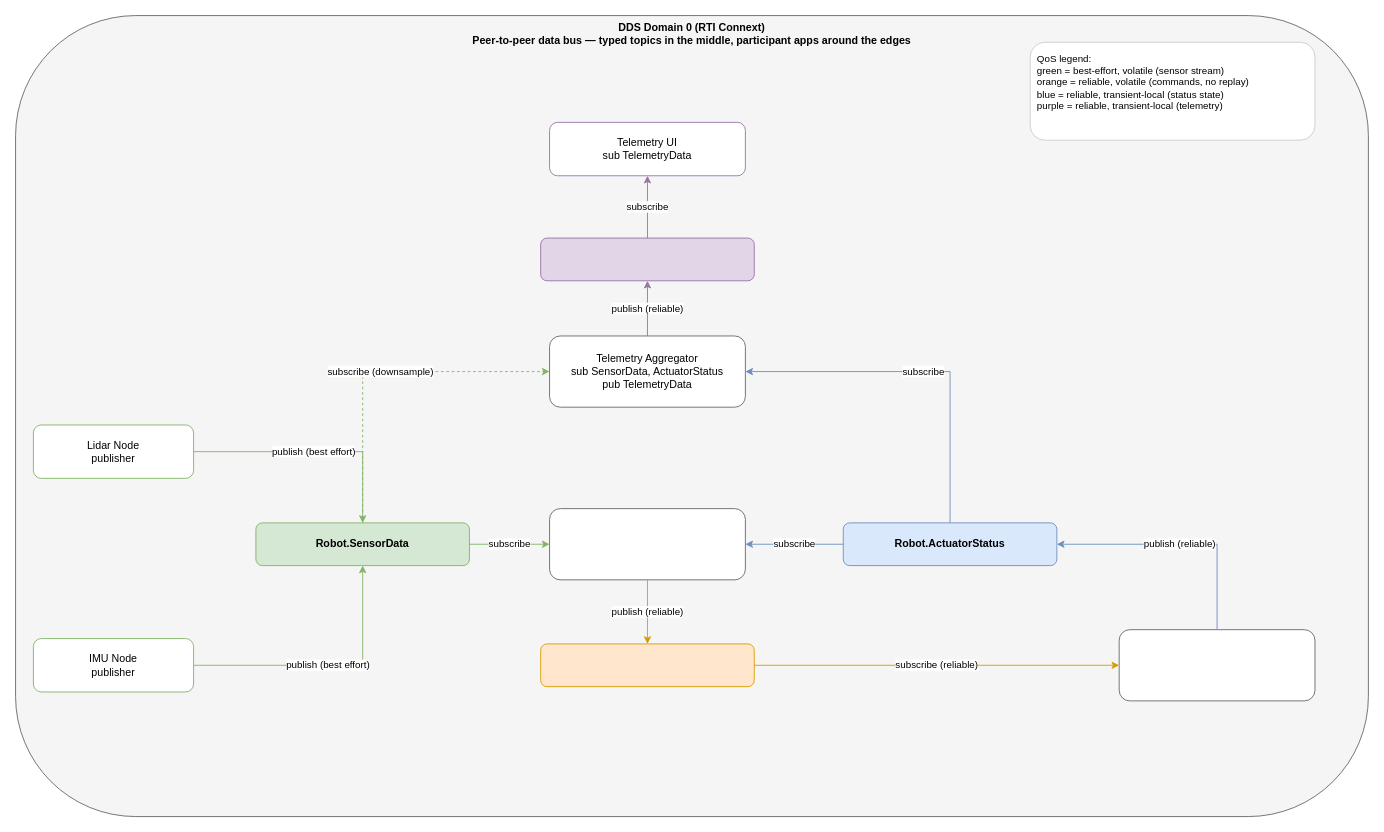
This 1384x832 diagram has some shape labels left out. Each missing label, with the centre of its shape:
Control / Planning Node sub SensorData, ActuatorStatus pub ActuatorCommand: the point at 647,544
Motor Actuator Node sub ActuatorCommand pub ActuatorStatus: the point at 1216,665
Robot.ActuatorCommand: the point at 647,665
Robot.TelemetryData: the point at 647,259
